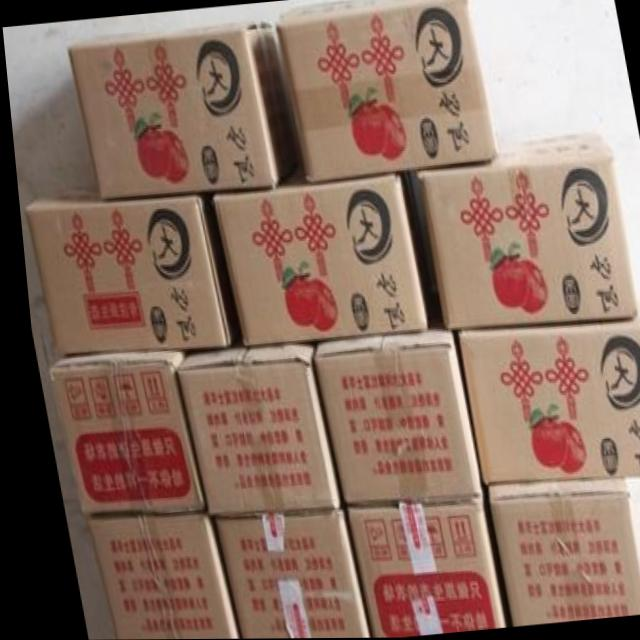box: (411, 130, 630, 329), (272, 0, 495, 183), (66, 20, 295, 198), (206, 158, 422, 346), (309, 282, 472, 505), (19, 181, 231, 352), (452, 296, 640, 485), (170, 325, 332, 515), (40, 351, 196, 517), (475, 481, 637, 625), (332, 498, 492, 638), (203, 511, 359, 639), (75, 516, 228, 640)
